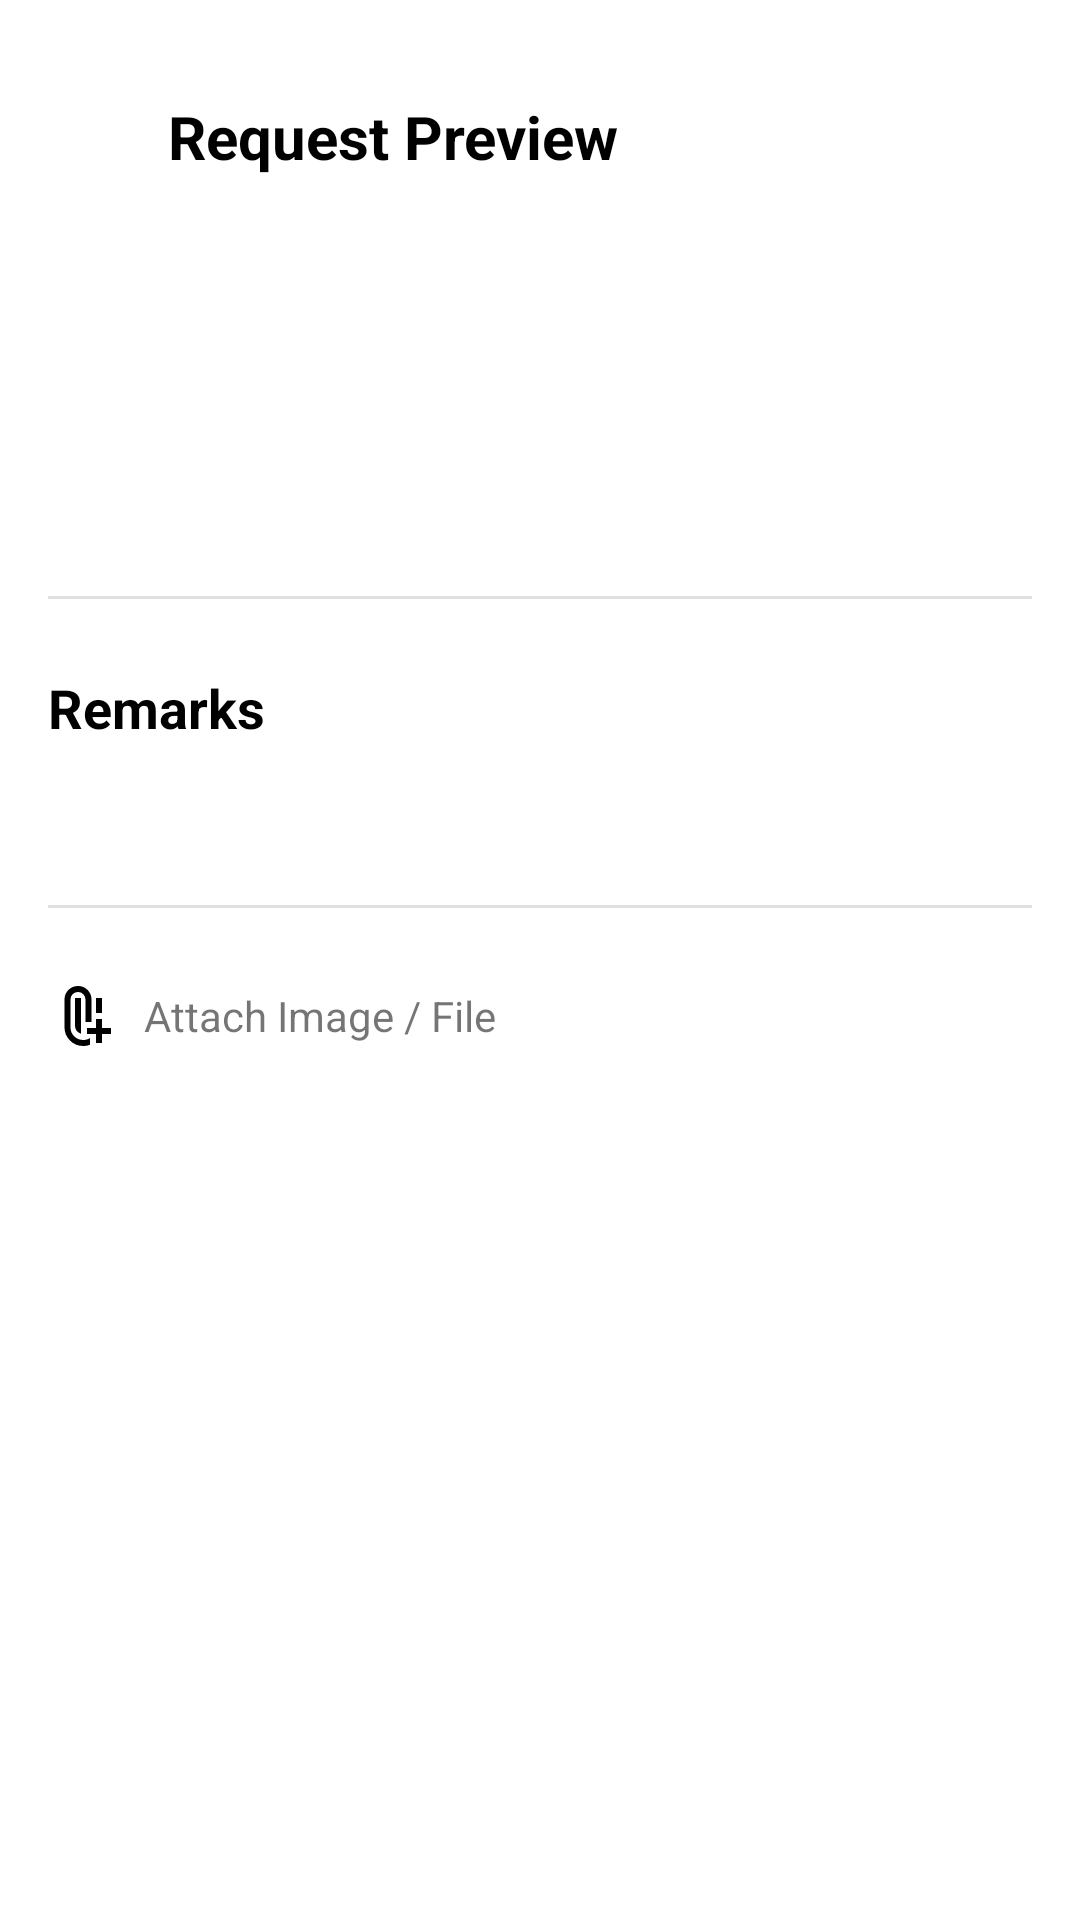

Icon bounding boxes for this 1080 × 1920 phone screenshot, format (x1, y1, x2, y2):
attachment: (64, 986, 111, 1046)
